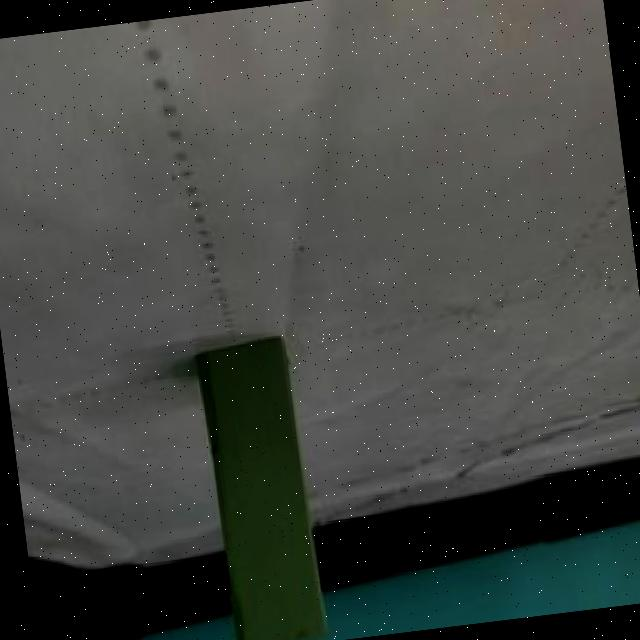greenbox: (191, 334, 330, 640)
